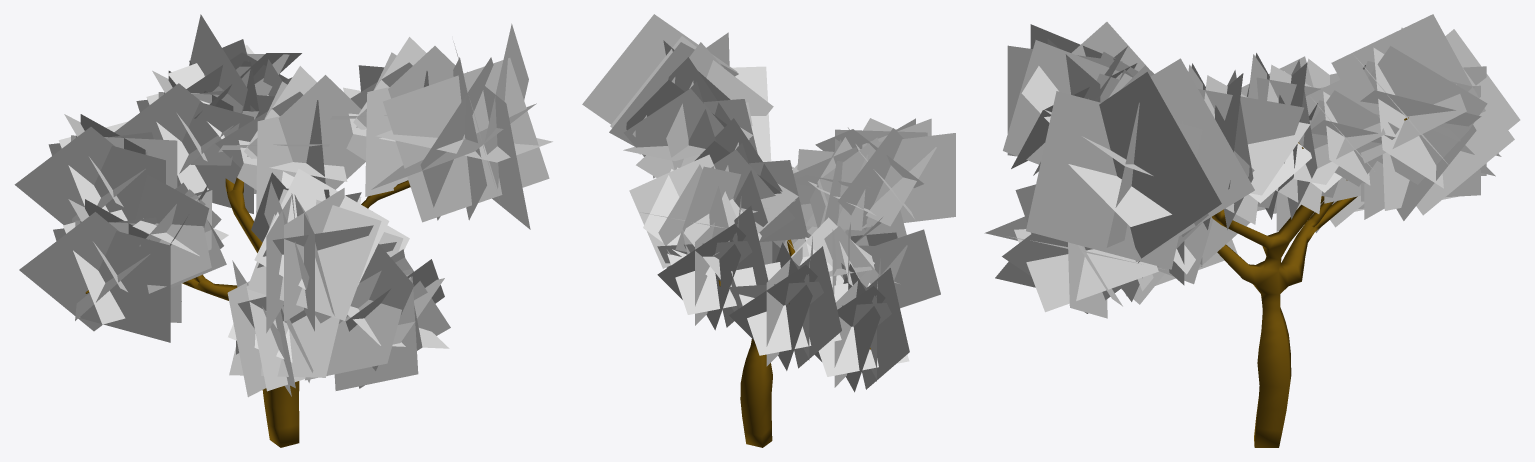
File: Arbol.fbx
3 renders of one model, left to right at view 1: azimuth 30°, elevation 25°; view 2: azimuth 150°, elevation 25°; view 3: azimuth 270°, elevation 25°, orthographic. The views are drawn at different scales.
Parts seen in each view (by area): view 1: Hoja.015, Hoja.004, Hoja.007, Hoja.002, Hoja.013, Hoja.008, Hoja.003, Hoja.010, Hoja.014, Hoja.012, Hoja.009, Tronco (+2 smaller); view 2: Hoja.015, Hoja.004, Hoja.008, Hoja.014, Hoja.012, Hoja.007, Hoja.010, Hoja.013, Hoja.005, Hoja.003, Tronco, Hoja.009 (+1 smaller); view 3: Hoja.015, Hoja.012, Hoja.004, Tronco, Hoja.002, Hoja.014, Hoja.010, Hoja.011, Hoja.013, Hoja.006, Hoja.008, Hoja.007 (+2 smaller).
Part boxes in pixels (x1,y1,x2,y2): Hoja.015: (371,23,552,229); Hoja.004: (247,169,389,333); Hoja.007: (19,199,181,342); Hoja.002: (305,243,450,390); Hoja.013: (215,66,365,215); Hoja.008: (14,114,177,224); Hoja.003: (227,260,339,397); Hoja.010: (114,70,256,213); Hoja.014: (330,37,463,196); Hoja.012: (167,14,301,165); Hoja.009: (132,174,228,293); Tronco: (85,177,410,447); Hoja.015: (582,14,773,178); Hoja.004: (815,118,955,230); Hoja.008: (729,236,841,370); Hoja.014: (623,57,757,177); Hoja.012: (629,154,761,292); Hoja.007: (814,259,909,392); Hoja.010: (657,196,768,330); Hoja.013: (695,118,808,242); Hoja.005: (791,137,878,231); Hoja.003: (805,210,940,308); Tronco: (718,239,870,447); Hoja.009: (791,217,879,294); Hoja.015: (1026,58,1254,269); Hoja.012: (1331,14,1487,188); Hoja.004: (1003,22,1148,175); Tronco: (1212,117,1408,447); Hoja.002: (984,184,1164,318); Hoja.014: (1182,63,1311,229); Hoja.010: (1324,68,1514,220); Hoja.011: (1298,69,1399,186); Hoja.013: (1247,53,1342,219); Hoja.006: (1138,214,1250,285); Hoja.008: (1330,27,1520,175); Hoja.007: (1257,58,1364,232).
Size of the model in its own units: 867 by 772 by 804.
